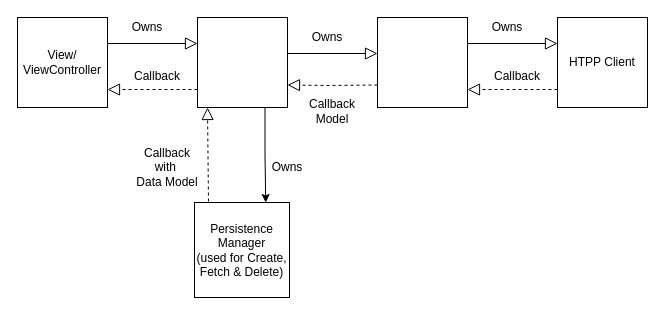
Image size: 665x315. Some labels were removed from this diagram. Each missing label, with the centre of its shape:
"API Services Handler (used for api calling and parsing data)" belongs at point (422, 62).
"ViewModel" belongs at point (242, 62).
